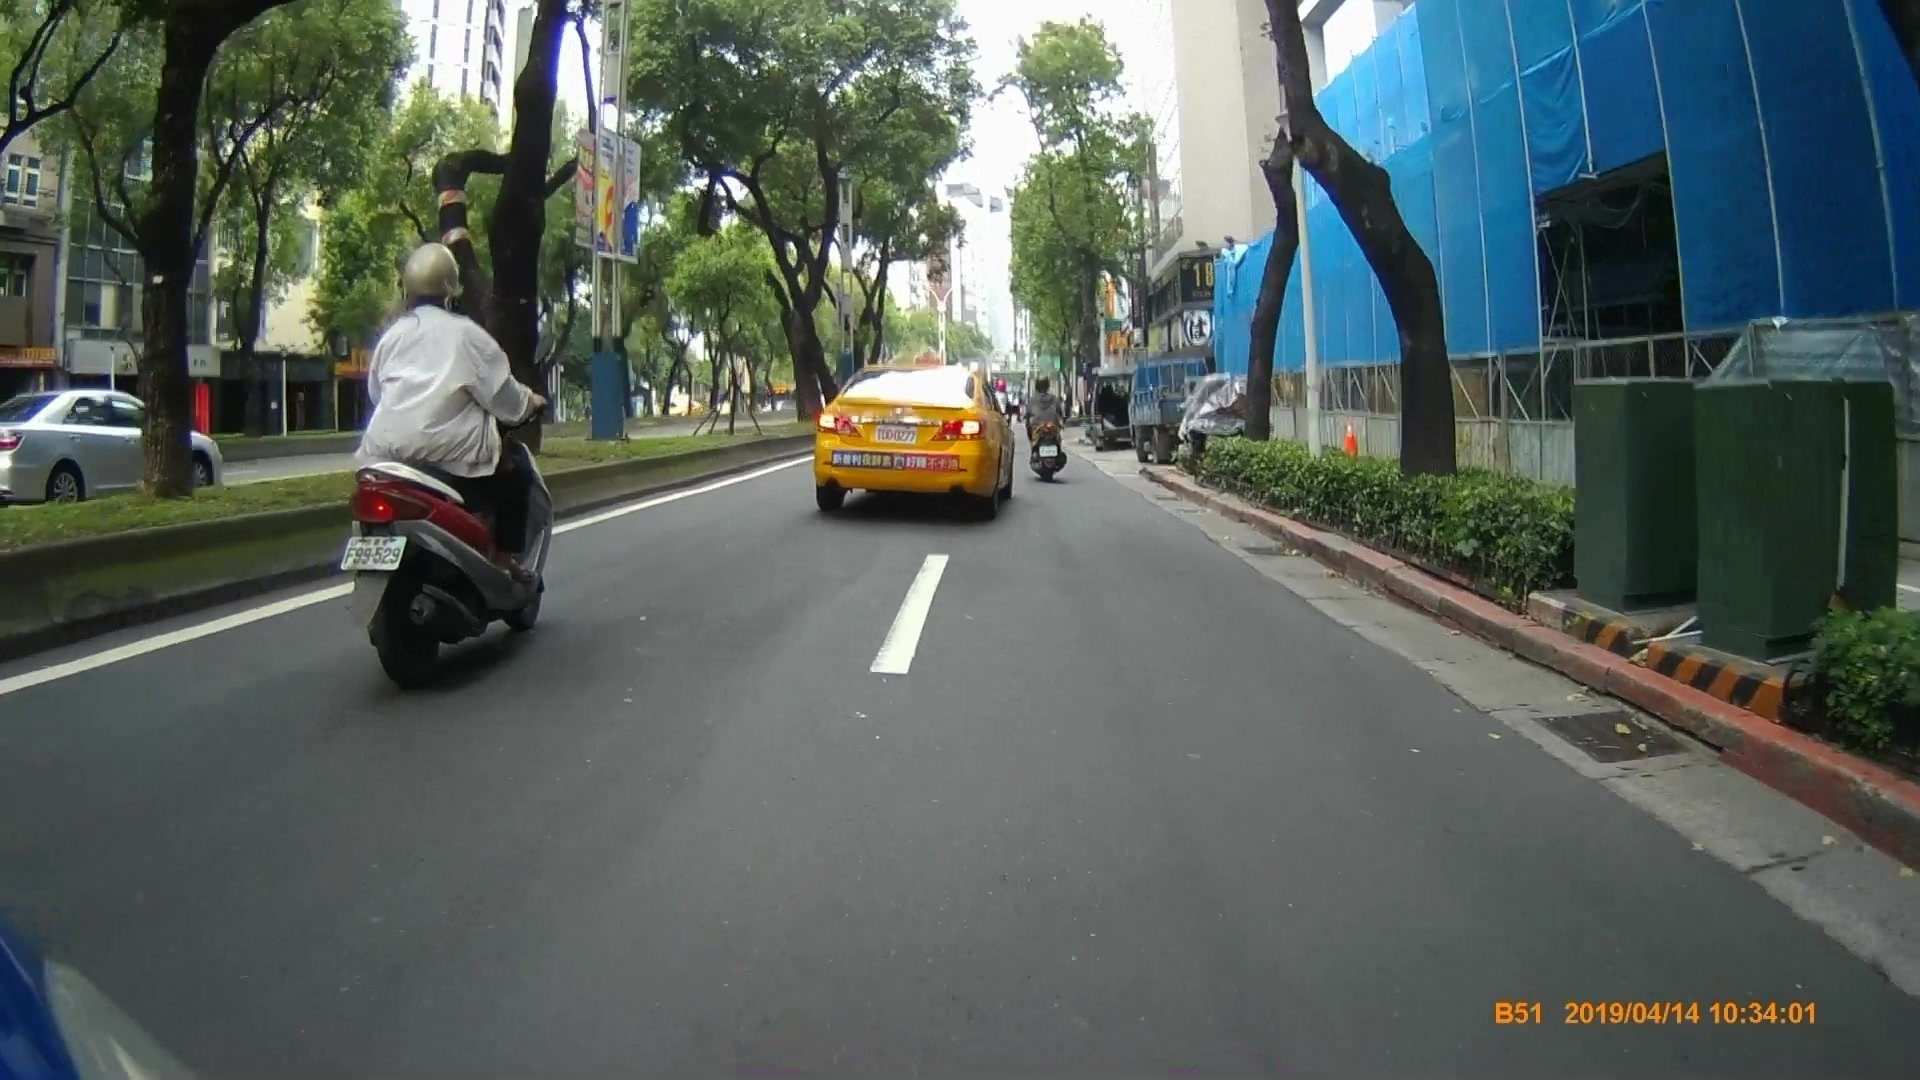License_plate: (341, 530, 407, 570), (874, 425, 919, 443), (1036, 443, 1062, 456)
